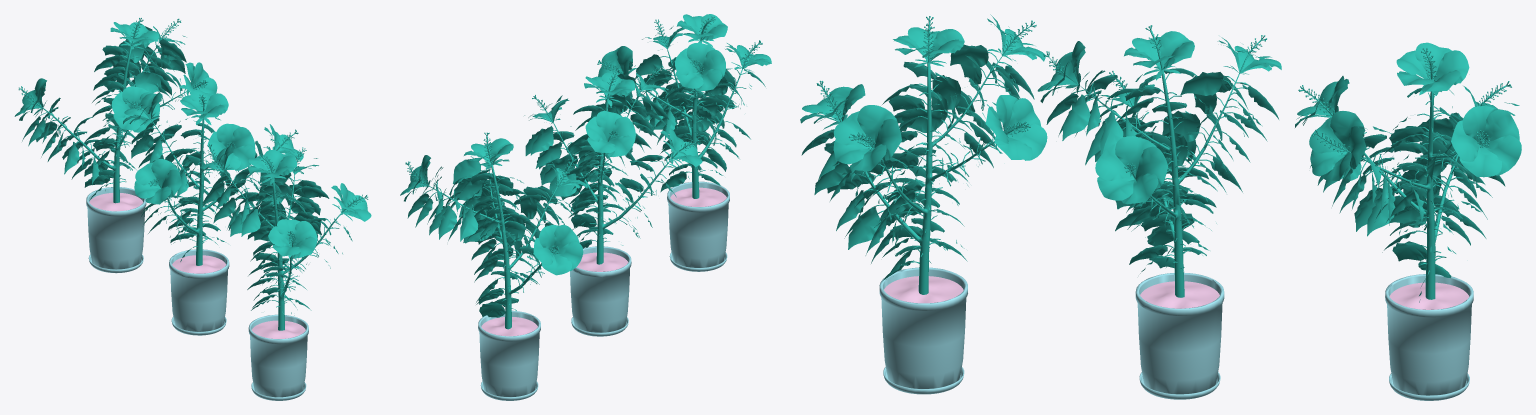
File: hibiscus.glb
The picture shows the model from 3 angles, left to right: view 1: azimuth 30°, elevation 25°; view 2: azimuth 150°, elevation 25°; view 3: azimuth 270°, elevation 25°; orthographic projection. The views are drawn at different scales.
Parts seen in each view (by area): view 1: flovers00, flovers01, flovers02, vase, vase002, vase001, ground, ground001, ground002; view 2: flovers00, flovers02, flovers01, vase002, vase001, vase, ground002, ground001, ground; view 3: flovers01, flovers02, flovers00, vase, vase002, vase001, ground, ground001, ground002.
Boxes of the visible parts, left/top/right/bottom form: flovers00: left=14, top=18, right=217, bottom=203; flovers01: left=197, top=144, right=371, bottom=330; flovers02: left=123, top=90, right=303, bottom=265; vase: left=169, top=249, right=229, bottom=335; vase002: left=248, top=314, right=308, bottom=400; vase001: left=86, top=187, right=146, bottom=273; ground: left=172, top=255, right=226, bottom=273; ground001: left=89, top=193, right=143, bottom=211; ground002: left=252, top=320, right=305, bottom=338; flovers00: left=400, top=132, right=587, bottom=329; flovers02: left=524, top=65, right=702, bottom=264; flovers01: left=597, top=14, right=771, bottom=198; vase002: left=667, top=181, right=729, bottom=271; vase001: left=478, top=310, right=540, bottom=400; vase: left=570, top=246, right=631, bottom=336; ground002: left=670, top=187, right=726, bottom=206; ground001: left=481, top=317, right=537, bottom=336; ground: left=577, top=252, right=628, bottom=271; flovers01: left=800, top=14, right=1047, bottom=294; flovers02: left=1037, top=25, right=1281, bottom=297; flovers00: left=1295, top=42, right=1521, bottom=302; vase: left=1135, top=272, right=1224, bottom=399; vase002: left=879, top=267, right=967, bottom=394; vase001: left=1385, top=274, right=1473, bottom=400; ground: left=1140, top=281, right=1219, bottom=308; ground001: left=1389, top=282, right=1469, bottom=309; ground002: left=884, top=276, right=963, bottom=303.
Bounding box in the file's own units: 529 × 735 × 1358.
